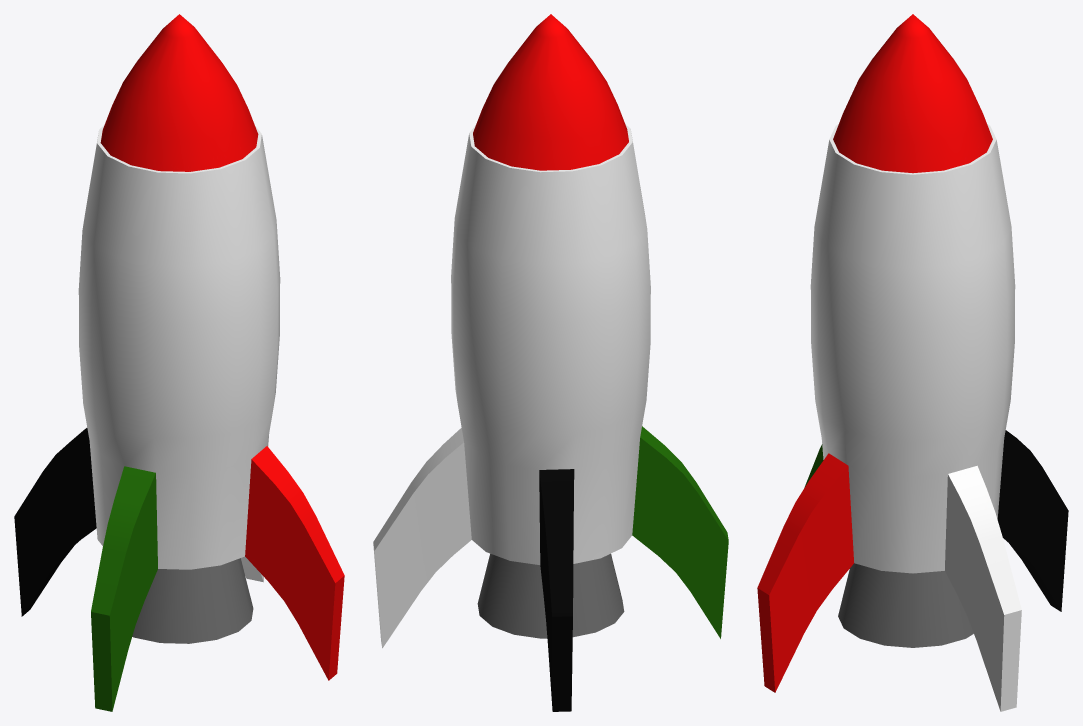
Rendered from Rocket.fbx.
3 renders of one model, left to right at view 1: azimuth 30°, elevation 25°; view 2: azimuth 150°, elevation 25°; view 3: azimuth 270°, elevation 25°, orthographic.
Visible parts, largest first — view 1: Rocket; view 2: Rocket; view 3: Rocket.
Part boxes in pixels (bbox=[...]): Rocket: bbox=[14, 14, 344, 711]; Rocket: bbox=[373, 14, 728, 711]; Rocket: bbox=[757, 14, 1068, 711].
Size of the model in its own units: 1.73 by 3.89 by 1.73.
